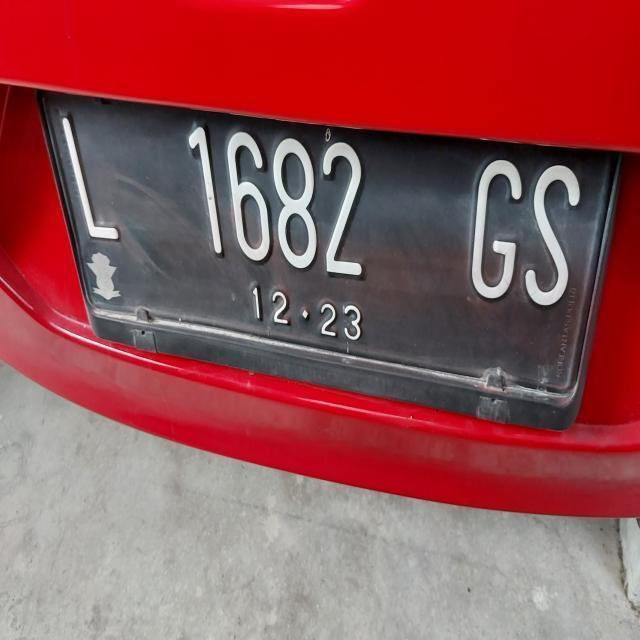1: (186, 116, 226, 286)
2: (320, 133, 366, 287)
6: (226, 117, 274, 267)
8: (274, 123, 318, 280)
G: (468, 134, 529, 340)
L: (53, 102, 132, 259)
S: (526, 148, 581, 324)
